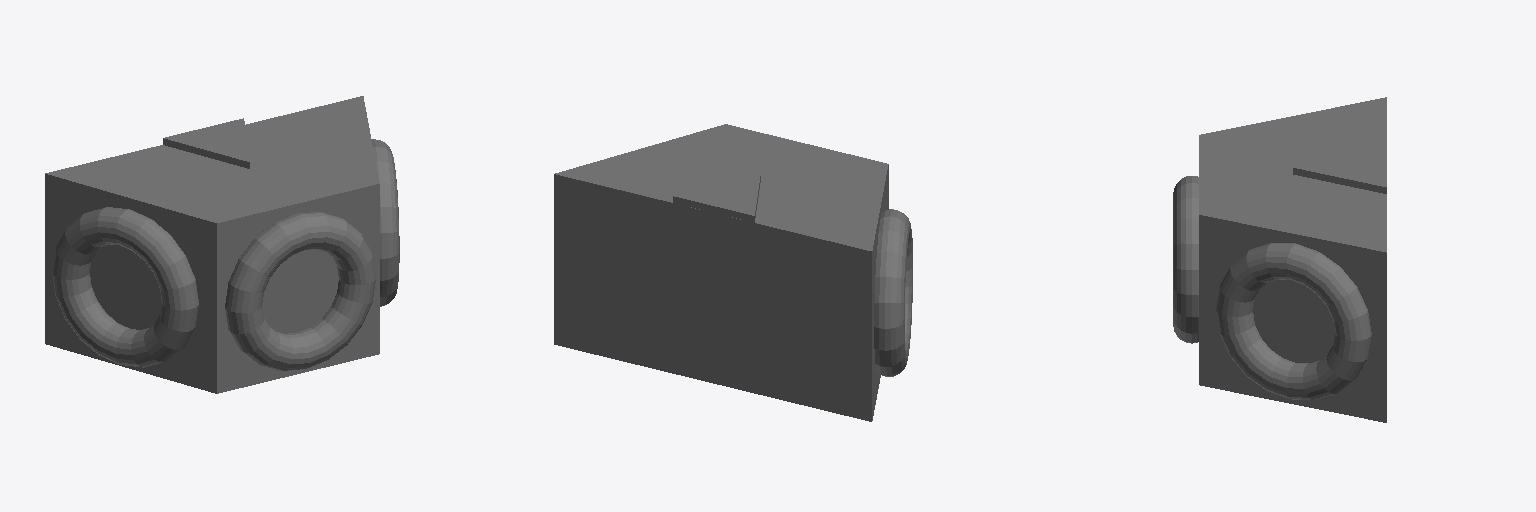
File: JordanSplitter1.obj
3 renders of one model, left to right at view 1: azimuth 30°, elevation 25°; view 2: azimuth 150°, elevation 25°; view 3: azimuth 270°, elevation 25°, orthographic.
Parts seen in each view (by area): view 1: pCube1, pTorus1, pTorus3, pTorus2, pCube2; view 2: pCube1, pTorus3, pCube2; view 3: pCube1, pTorus2, pTorus1, pCube2.
Part boxes in pixels (bbox=[...]): pCube1: bbox=[45, 96, 379, 393]; pTorus1: bbox=[225, 212, 375, 370]; pTorus3: bbox=[52, 207, 198, 367]; pTorus2: bbox=[372, 139, 399, 306]; pCube2: bbox=[163, 118, 249, 168]; pCube1: bbox=[554, 124, 888, 421]; pTorus3: bbox=[874, 209, 912, 376]; pCube2: bbox=[673, 172, 760, 222]; pCube1: bbox=[1199, 97, 1386, 422]; pTorus2: bbox=[1216, 243, 1371, 399]; pTorus1: bbox=[1173, 176, 1198, 343]; pCube2: bbox=[1293, 148, 1386, 193].
Bounding box in the file's own units: 2.06 × 1.04 × 1.13.